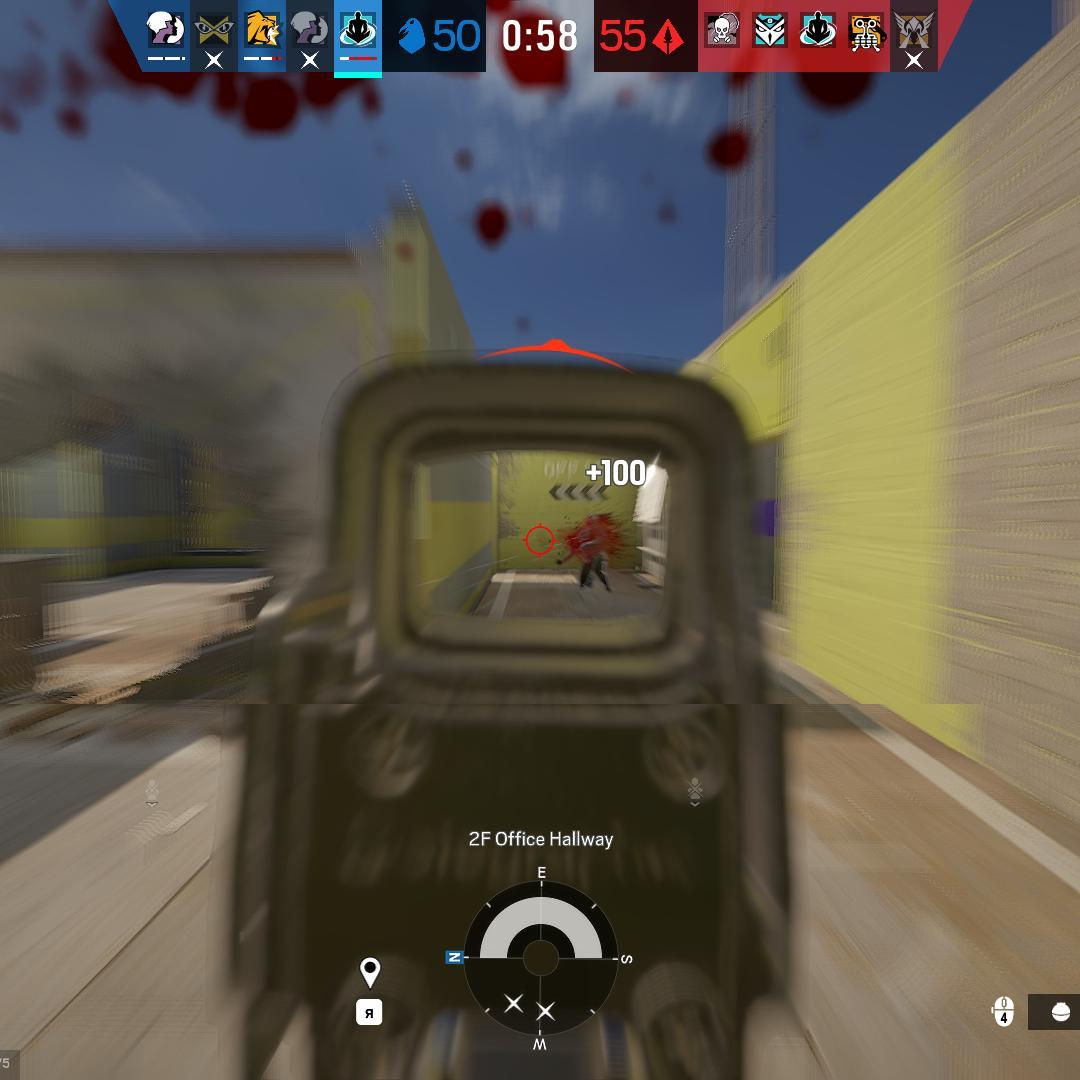Character: (553, 526, 615, 594)
